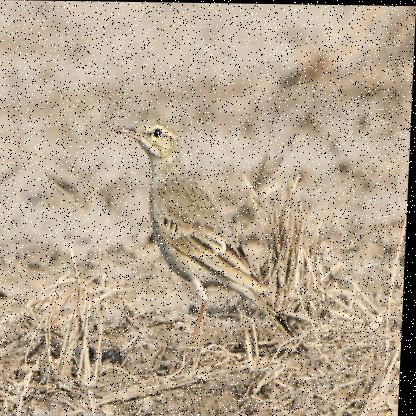Burung: (105, 116, 319, 365)
